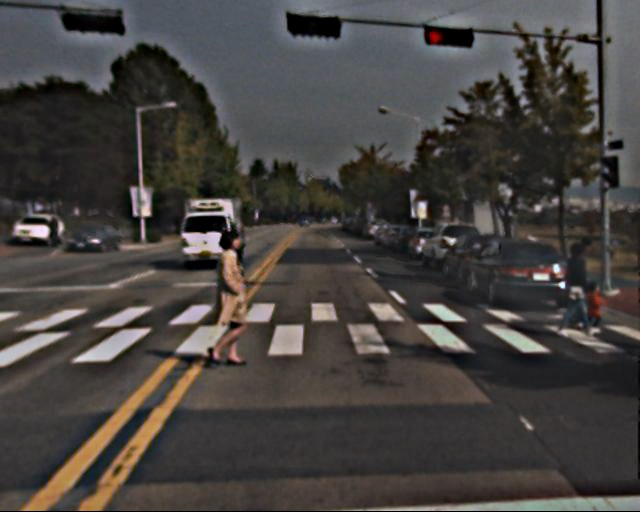person: (200, 230, 256, 366), (556, 239, 596, 336), (585, 281, 606, 331), (47, 216, 60, 247)
